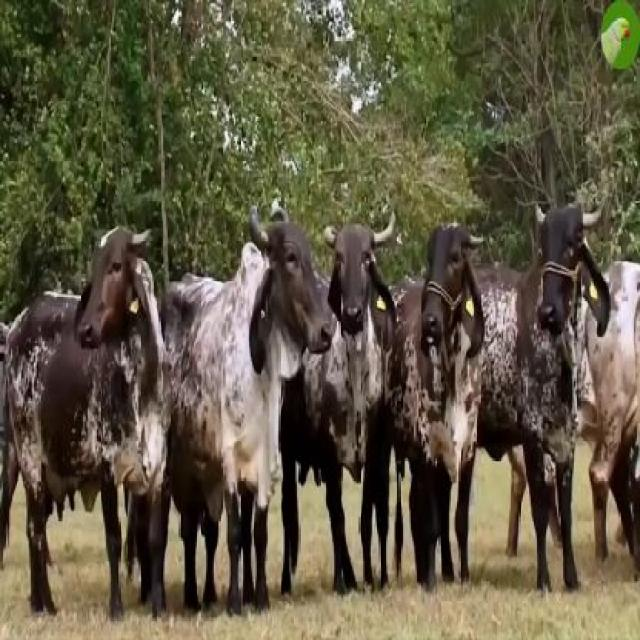Cow: (165, 203, 329, 622), (0, 224, 174, 616), (479, 203, 603, 594), (400, 225, 485, 589), (325, 214, 400, 615)
